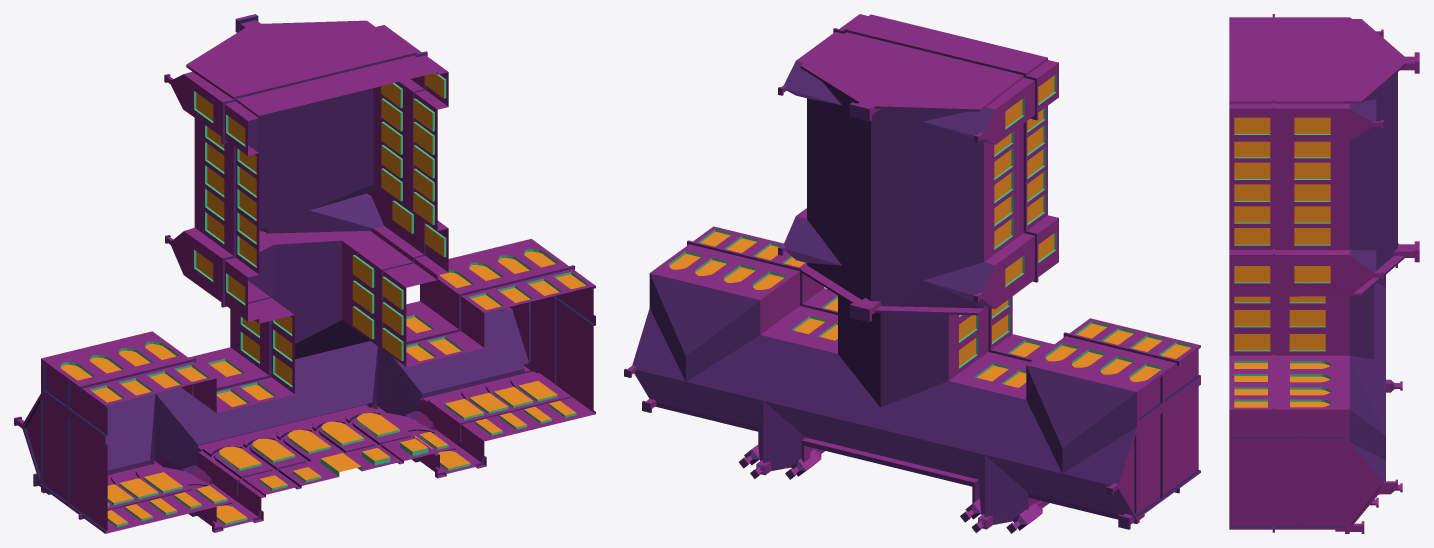
Rendered from Samochodówka Tier 3.fbx.
3 views of the same model, side by side, from view 1: azimuth 30°, elevation 25°; view 2: azimuth 150°, elevation 25°; view 3: azimuth 270°, elevation 25° (orthographic). The views are drawn at different scales.
Parts seen in each view (by area): view 1: samochodowka_cz2; view 2: samochodowka_cz2; view 3: samochodowka_cz2.
Boxes of the visible parts, x1,y1,x2,y2 form: samochodowka_cz2: [14, 14, 595, 533]; samochodowka_cz2: [624, 14, 1200, 533]; samochodowka_cz2: [1229, 14, 1419, 533].
Bounding box in the file's own units: 4.09 × 3.29 × 1.46.
